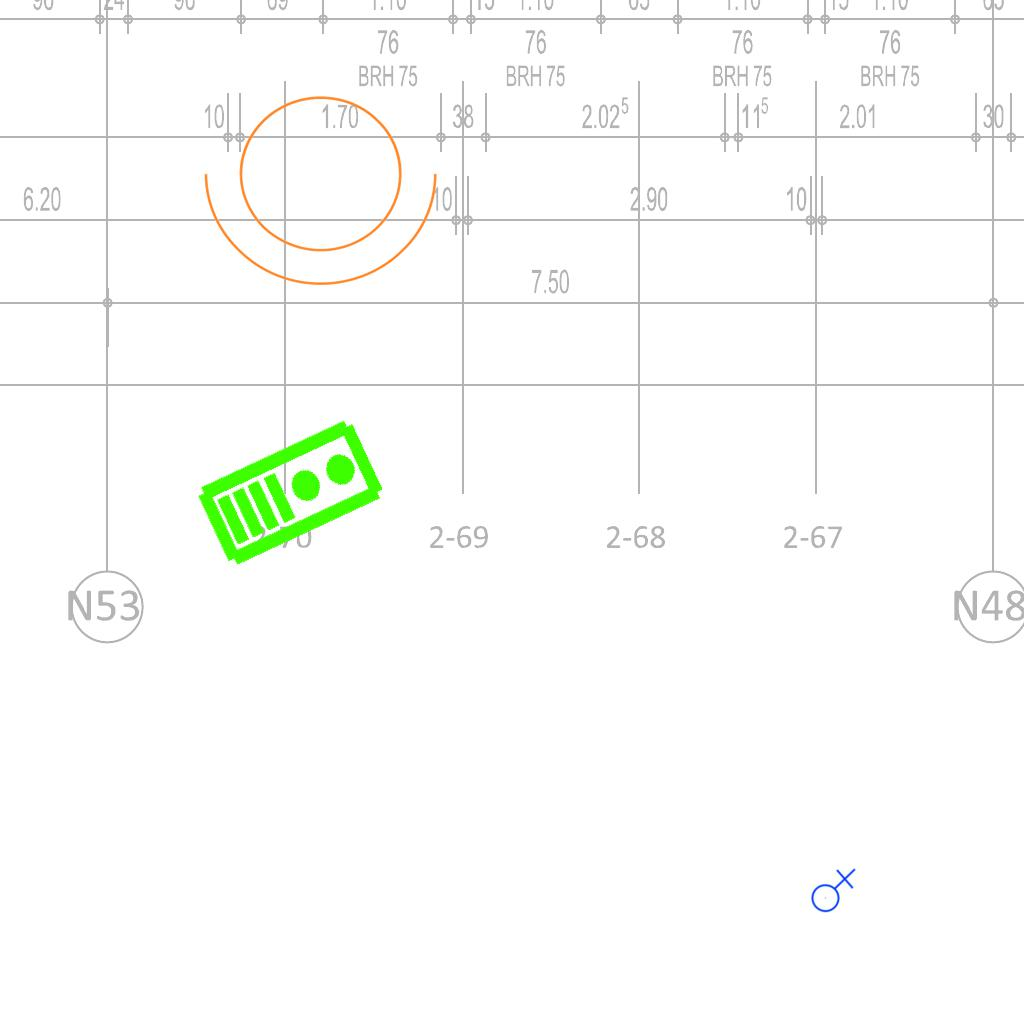Elektroanschluss_allgemein_230V_Geraeteanschlussdose_230V: (807, 866, 856, 913)
Gegensprechanlage_mit_Video: (190, 410, 391, 572)
Scheinwerfer_fuer_Alarmbeleuchtung: (195, 71, 459, 296)
